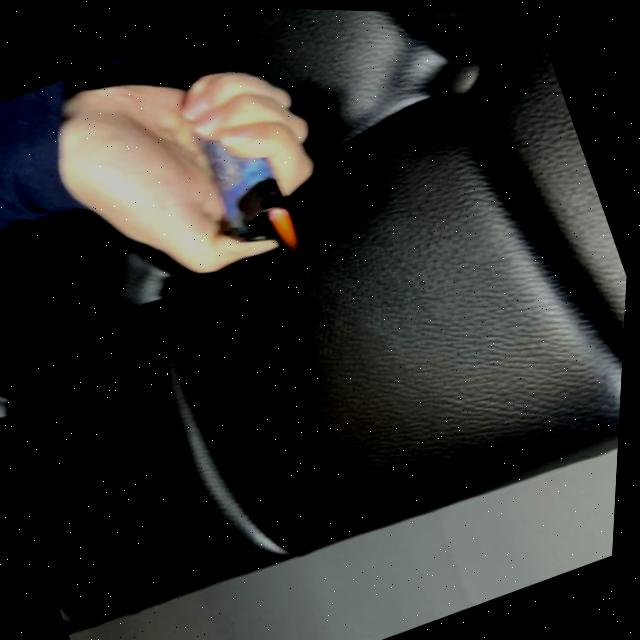Fire: (263, 199, 307, 259)
